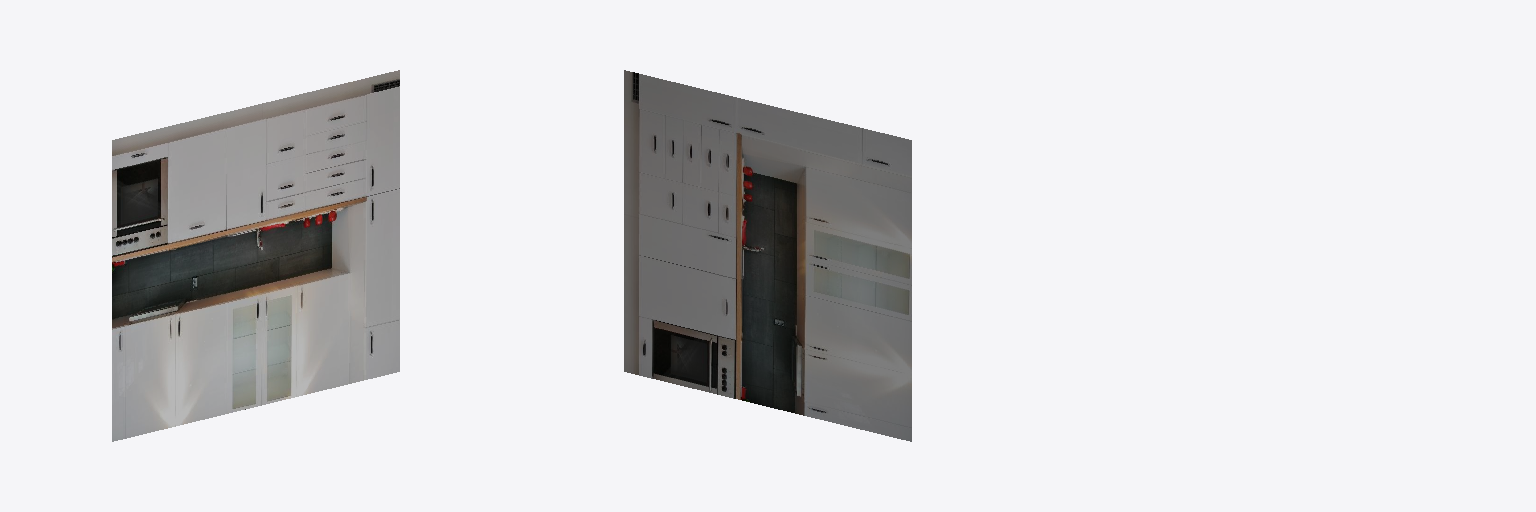
3 views of the same model, side by side, from view 1: azimuth 30°, elevation 25°; view 2: azimuth 150°, elevation 25°; view 3: azimuth 270°, elevation 25° (orthographic).
Visible parts, largest first — view 1: Cube.001; view 2: Cube.001; view 3: none.
Boxes of the visible parts, <box> form: Cube.001: <box>112,70,399,441</box>; Cube.001: <box>624,70,911,441</box>.
Size of the model in its own units: 4 by 4 by 0.0002.
1 materials, 1 textured.